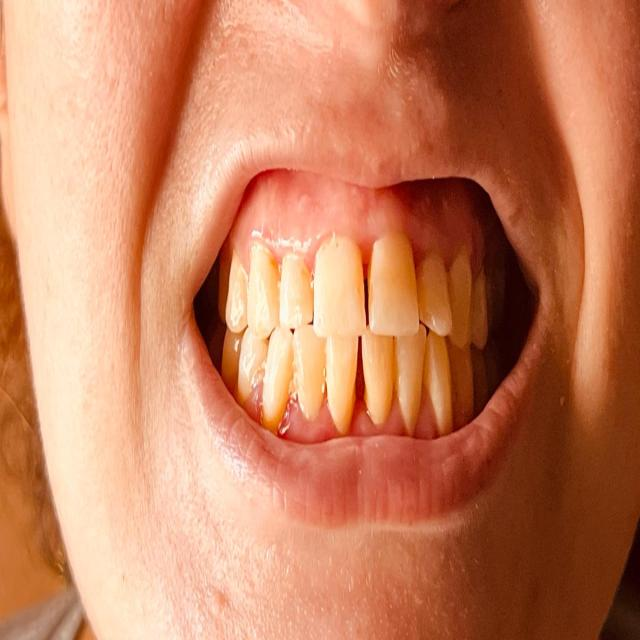tooth: (312, 236, 367, 334), (370, 240, 422, 337), (418, 255, 453, 343), (247, 246, 280, 339), (329, 333, 361, 428), (397, 331, 426, 431), (426, 329, 452, 440), (294, 329, 326, 417), (278, 254, 314, 324), (364, 340, 393, 422), (270, 324, 290, 418)
